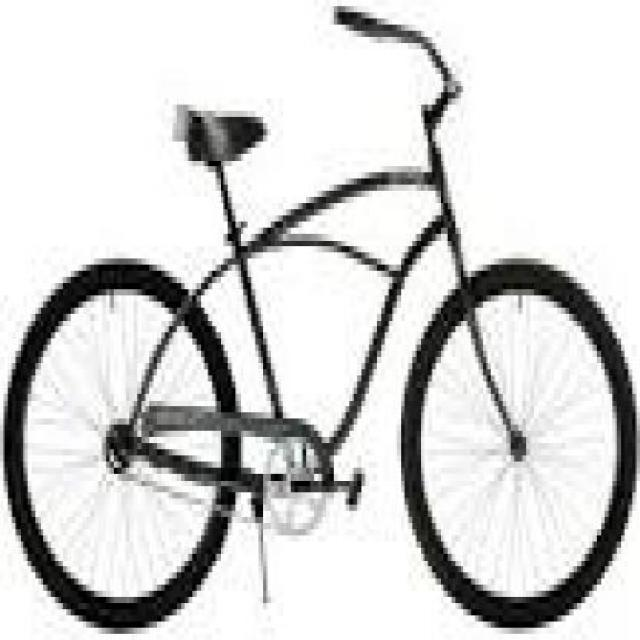bicycle: (1, 1, 636, 640)
